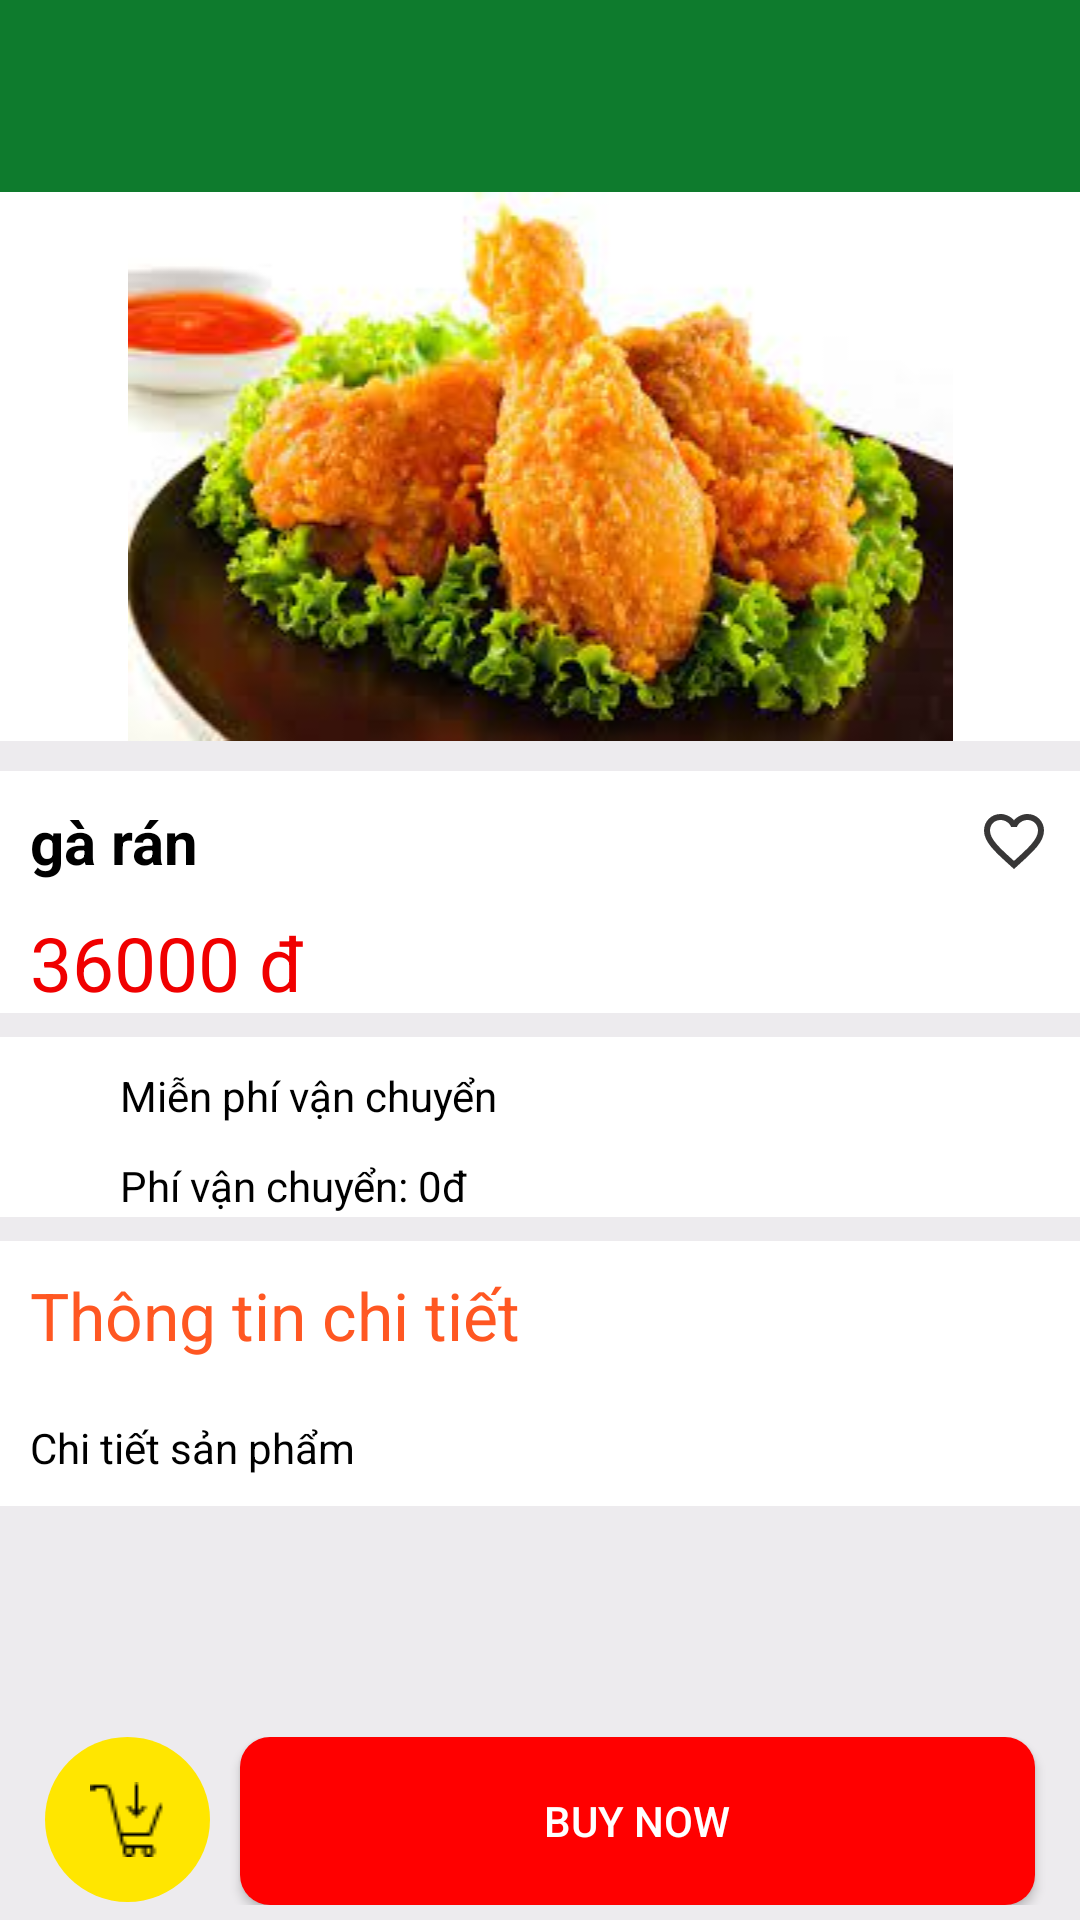

Icons on this 1080*1920 Android screen, each with its box as (x1, y1, x2, y2):
addtocart: (45, 1737, 210, 1902)
favorite border: (984, 814, 1044, 869)
